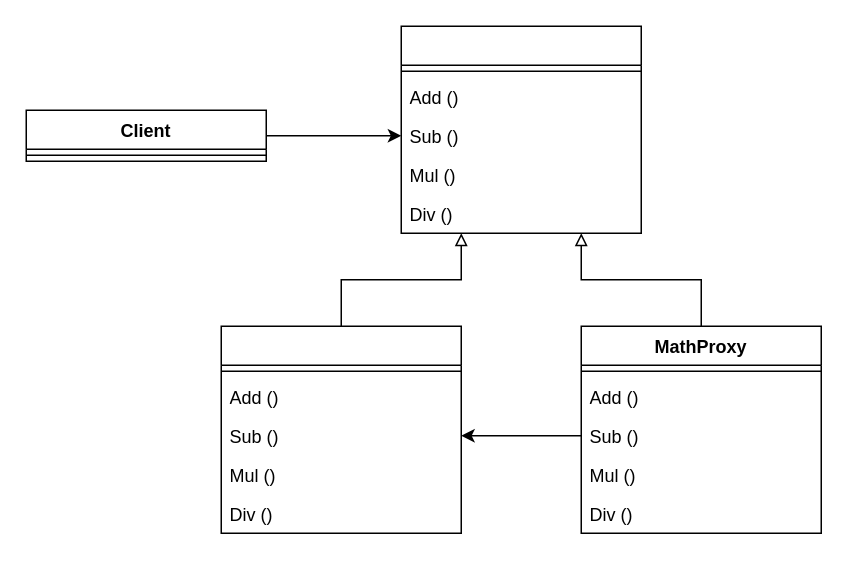
The diagram is 848 pixels wide and 564 high, and some of its shapes have lost their labels. Here are the shapes that lost their labels. From the top down, the box of each, then its label:
(400, 25, 641, 233): IMath
(220, 325, 461, 533): Math
